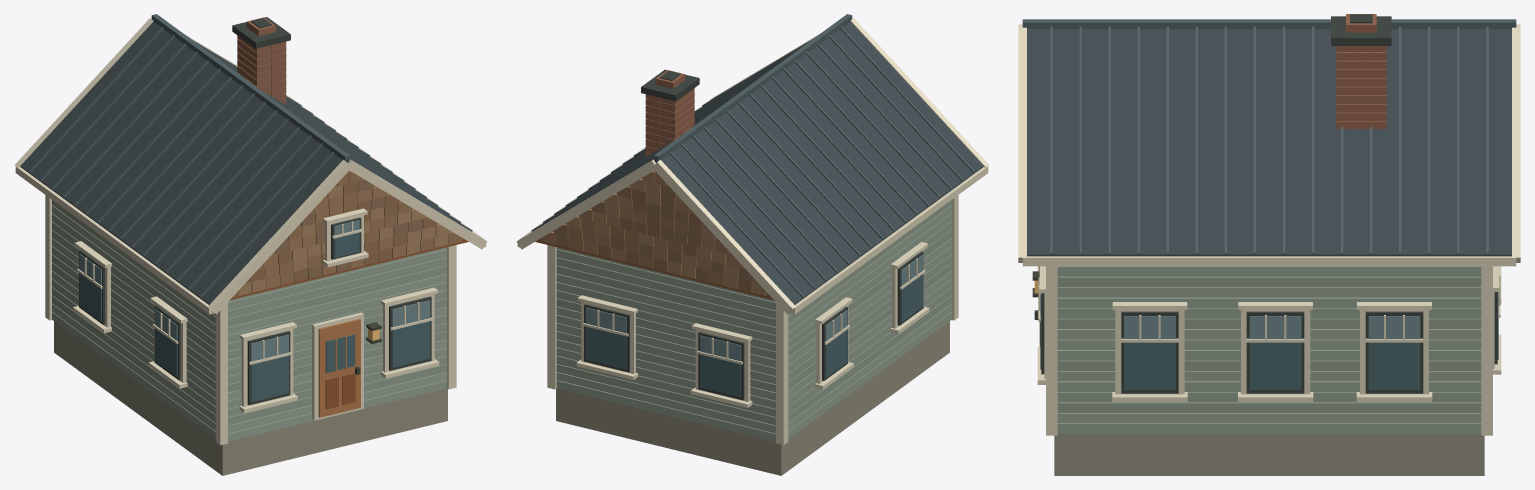
The model's file is cottage.glb.
3 renders of one model, left to right at view 1: azimuth 30°, elevation 25°; view 2: azimuth 150°, elevation 25°; view 3: azimuth 270°, elevation 25°, orthographic. The views are drawn at different scales.
Parts seen in each view (by area): view 1: KitCottageDetails, KitCottageRoofFinish, KitCottageSiding; view 2: KitCottageDetails, KitCottageRoofFinish, KitCottageSiding; view 3: KitCottageRoofFinish, KitCottageDetails, KitCottageSiding.
Part boxes in pixels (x1,y1,x2,y2): KitCottageDetails: (15,17,487,475); KitCottageRoofFinish: (20,14,472,312); KitCottageSiding: (52,200,447,441); KitCottageDetails: (516,18,988,475); KitCottageRoofFinish: (531,14,983,304); KitCottageSiding: (556,200,951,441); KitCottageRoofFinish: (1022,19,1516,256); KitCottageDetails: (1018,14,1520,475); KitCottageSiding: (1057,266,1481,433).
Size of the model in its own units: 6.67 by 7.5 by 8.2.
